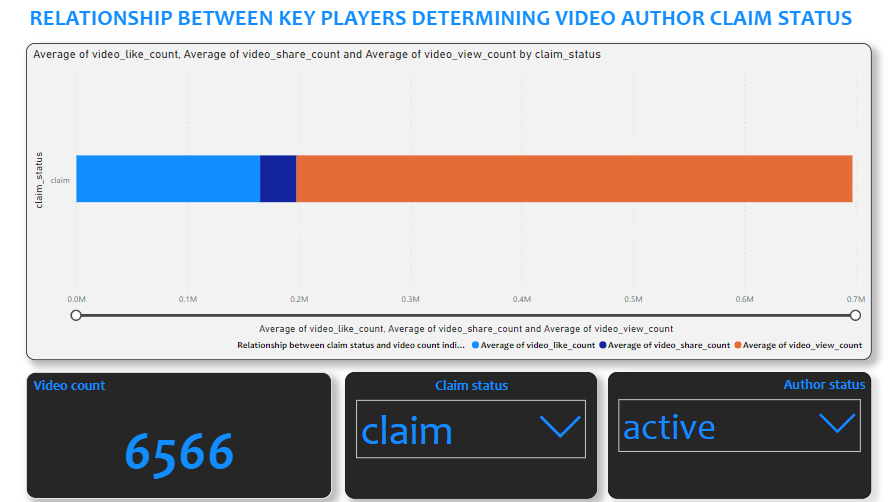

This screenshot's page, from the dashboard's own definition file:
{"tool":"powerbi","page":{"name":"Page 1","canvas":[1280,720],"ordinal":0},"visuals":[{"type":"barChart","fields":{"Category":["tiktok_dataset.claim_status"],"Y":["Avg(tiktok_dataset.video_like_count)","Avg(tiktok_dataset.video_share_count)","Avg(tiktok_dataset.video_view_count)"]},"box":[38.5,61.1,1207.5,453],"z":0},{"type":"card","title":"Video count","fields":{"Values":["CountNonNull(tiktok_dataset.video_id)"]},"box":[38.5,531.4,437,180.7],"z":1000},{"type":"slicer","title":"Author status","fields":{"Values":["tiktok_dataset.author_ban_status"]},"box":[870.1,531.4,375.9,180.7],"z":2000},{"type":"textbox","box":[38.5,0,1207.5,49.2],"z":3000},{"type":"slicer","title":"Claim status","fields":{"Values":["tiktok_dataset.claim_status"]},"box":[494.2,531.4,360,180.7],"z":4000}]}

Visuals, with their boxes in screenshot pixels (x1, y1, x2, y2), scaled from the page's 1280x720 canvas onto the 892x502 screenshot:
barChart - tiktok_dataset.claim_status x Avg(tiktok_dataset.video_like_count): select_region(27, 43, 868, 358)
"Video count" card: select_region(27, 371, 331, 496)
"Author status" slicer: select_region(606, 371, 868, 496)
textbox: select_region(27, 0, 868, 34)
"Claim status" slicer: select_region(344, 371, 595, 496)
